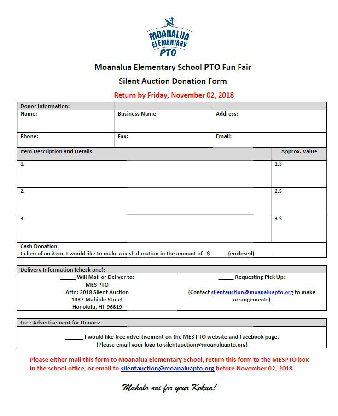textbox: (14, 157, 274, 189), (16, 185, 275, 217), (16, 213, 276, 244), (211, 107, 329, 134), (113, 107, 216, 134), (15, 109, 116, 134), (210, 129, 329, 149), (112, 129, 216, 150), (15, 129, 117, 150), (269, 157, 328, 189), (271, 185, 329, 217), (271, 213, 329, 244)
textline: (64, 329, 84, 341), (208, 247, 228, 258), (58, 274, 77, 284), (219, 275, 235, 283)
